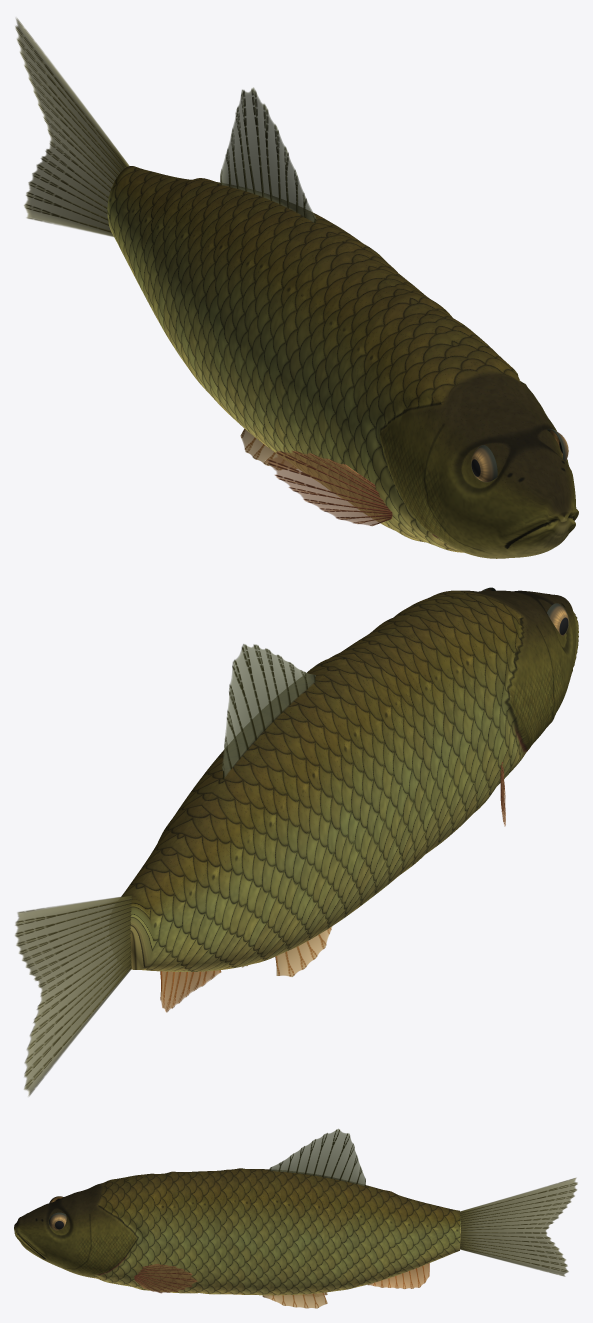
File: klen.glb
3 renders of one model, top to bottom at view 1: azimuth 30°, elevation 25°; view 2: azimuth 150°, elevation 25°; view 3: azimuth 270°, elevation 25°, orthographic. The views are drawn at different scales.
Parts seen in each view (by area): view 1: Body, FinCaudal, FinDorsal1, FinPectoral, FinPelvic, EyeLeft; view 2: Body, FinCaudal, FinDorsal1, FinAnal, FinPelvic; view 3: Body, FinCaudal, FinDorsal1, FinPectoral, FinAnal, FinPelvic, EyeRight.
Boxes of the visible parts, bbox=[...] form: Body: bbox=[107, 166, 578, 558]; FinCaudal: bbox=[15, 18, 129, 236]; FinDorsal1: bbox=[220, 87, 315, 222]; FinPectoral: bbox=[265, 450, 392, 526]; FinPelvic: bbox=[240, 428, 297, 469]; EyeLeft: bbox=[471, 445, 497, 481]; Body: bbox=[121, 590, 578, 971]; FinCaudal: bbox=[15, 895, 131, 1096]; FinDorsal1: bbox=[222, 644, 315, 779]; FinAnal: bbox=[160, 970, 221, 1012]; FinPelvic: bbox=[242, 926, 332, 976]; Body: bbox=[14, 1168, 460, 1295]; FinCaudal: bbox=[460, 1178, 577, 1276]; FinDorsal1: bbox=[269, 1128, 365, 1186]; FinPectoral: bbox=[134, 1264, 197, 1293]; FinAnal: bbox=[368, 1263, 429, 1288]; FinPelvic: bbox=[262, 1292, 327, 1308]; EyeRight: bbox=[49, 1212, 66, 1230].
Size of the model in its own units: 0.2528 by 0.3443 by 1.
Materials: 8 (7 with a texture image).
